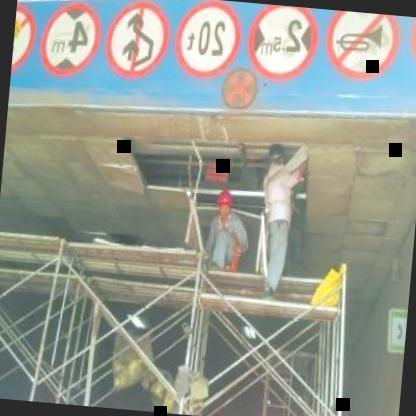helmet: (259, 140, 288, 186), (214, 185, 237, 226)
